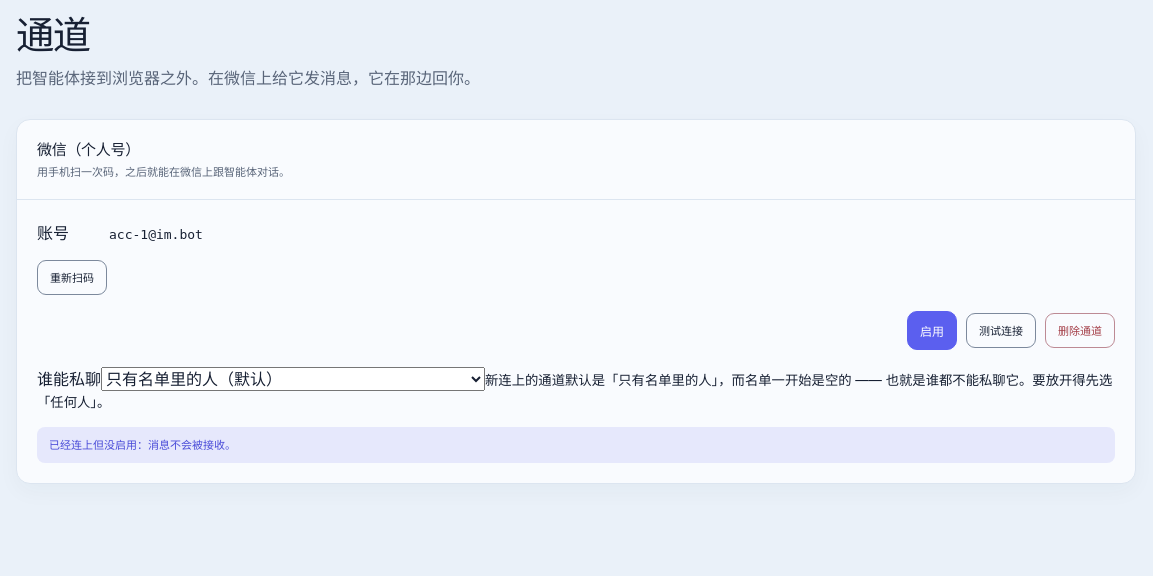
通道页 › 扫码接口报错时给出人话，不是空白页
Click the button "重新扫码": [72, 277] box [37,260,107,295]
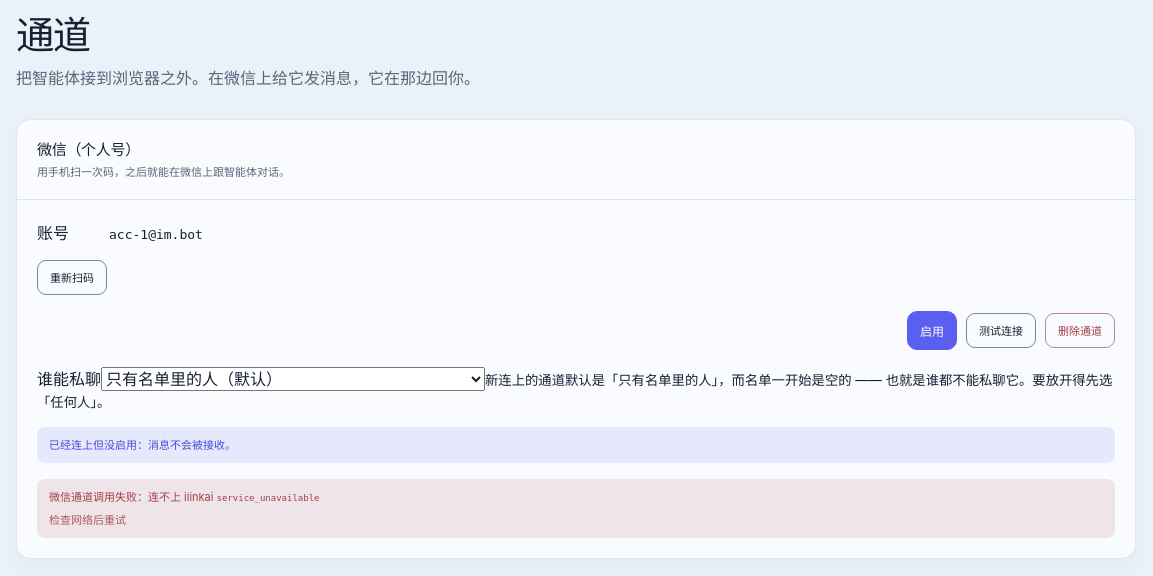
Expected: the text "微信通道调用失败：连不上 ilinkai service_unavailable" is shown, [49,490,320,504]
